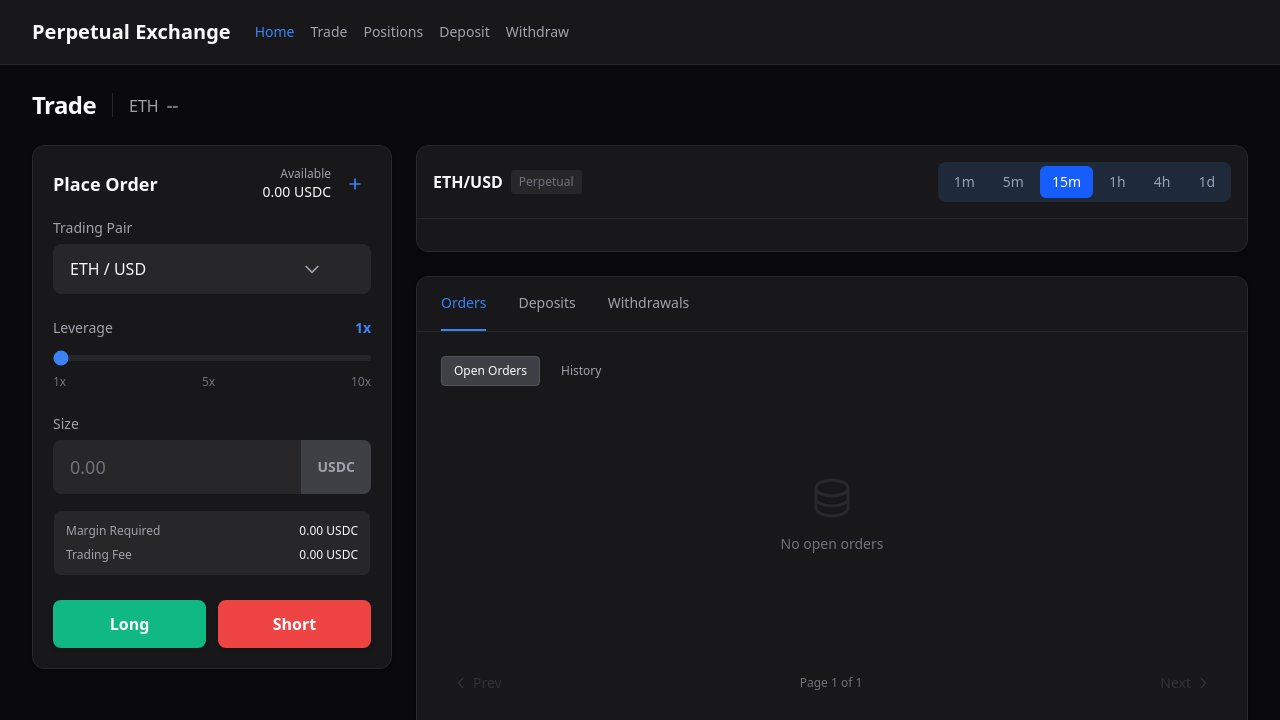
Test case: TradePage › when user is connected › should show margin required calculation based on leverage
The width and height of the screenshot is (1280, 720).
Type "100" into the number field labelled "Size".
click(212, 467); type("100")  # box x1=53 y1=440 x2=371 y2=494
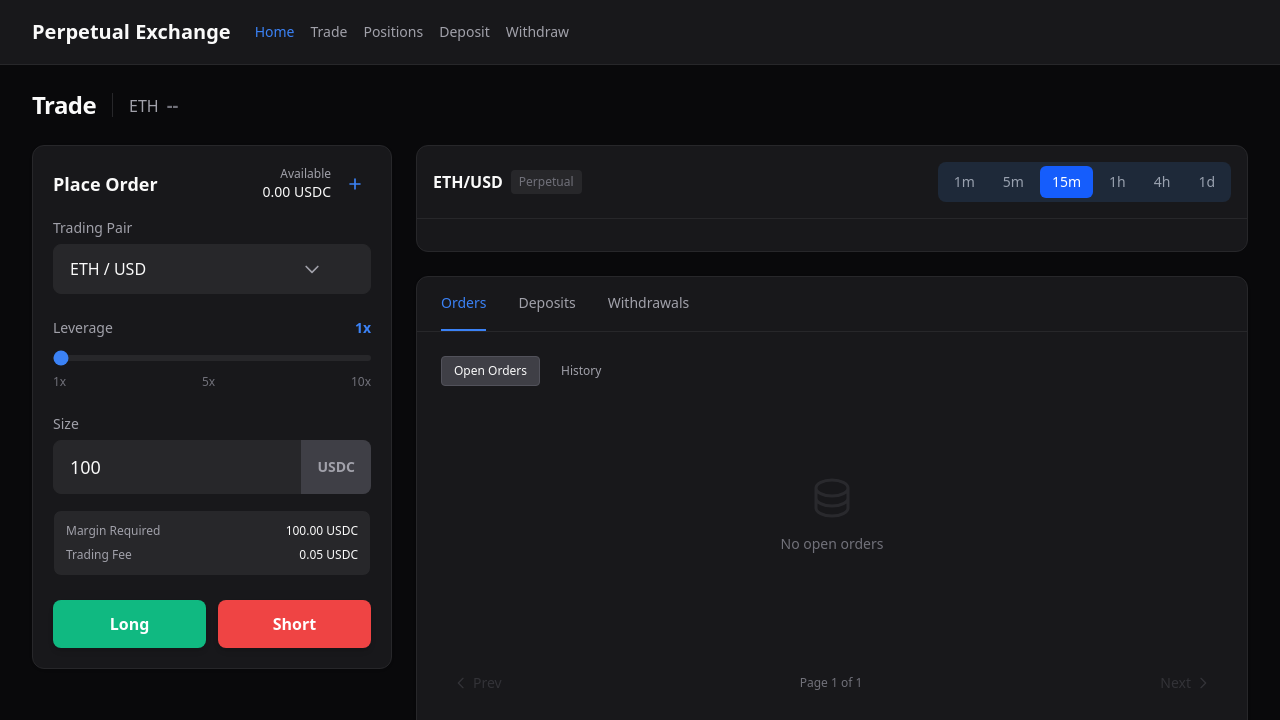
Expected: the text "100.00 USDC" is shown, x1=286 y1=523 x2=358 y2=539
